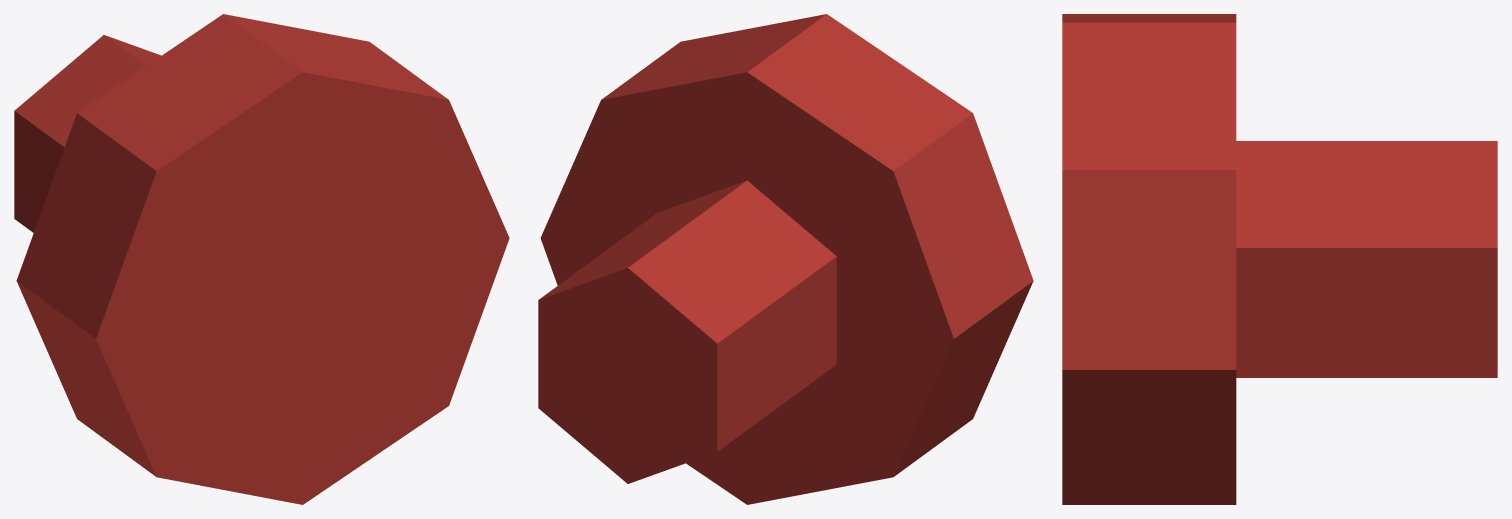
File: SM_Pushpin.fbx
3 renders of one model, left to right at view 1: azimuth 30°, elevation 25°; view 2: azimuth 150°, elevation 25°; view 3: azimuth 270°, elevation 25°, orthographic. The views are drawn at different scales.
Parts seen in each view (by area): view 1: SM_Pushpin_1; view 2: SM_Pushpin_1; view 3: SM_Pushpin_1.
Boxes of the visible parts, <box> form: SM_Pushpin_1: <box>14,14,509,504</box>; SM_Pushpin_1: <box>538,14,1033,504</box>; SM_Pushpin_1: <box>1062,14,1497,504</box>.
Bounding box in the file's own units: 1.2 × 1.2 × 1.
